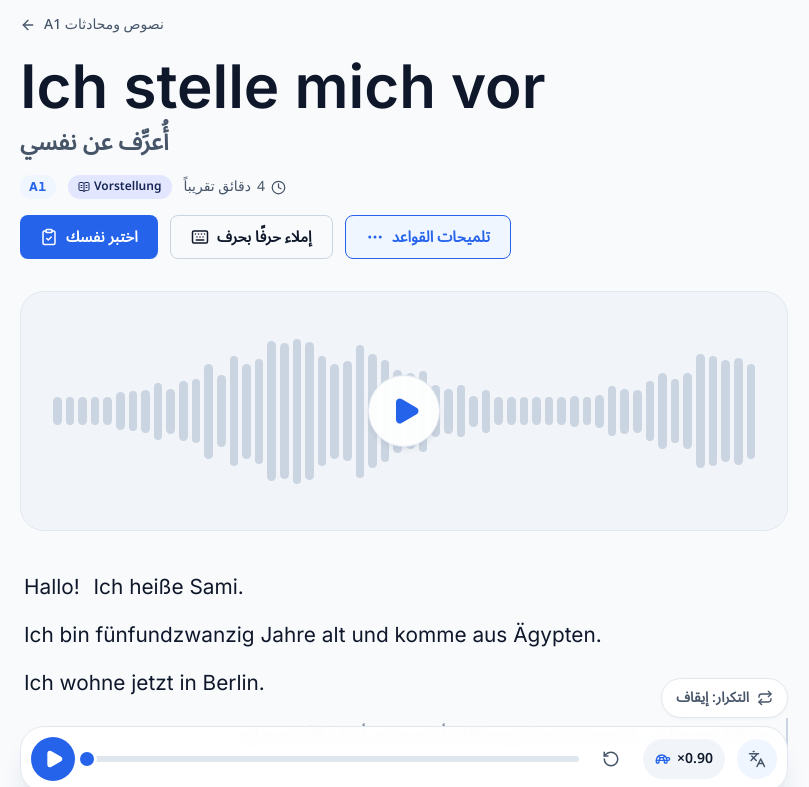
Test: StoryPage — repeating › chooses a passage with two taps, tints its sentences and says which sentences repeat
Click the button "التكرار: إيقاف" at (725, 698), box [661,678,788,718]
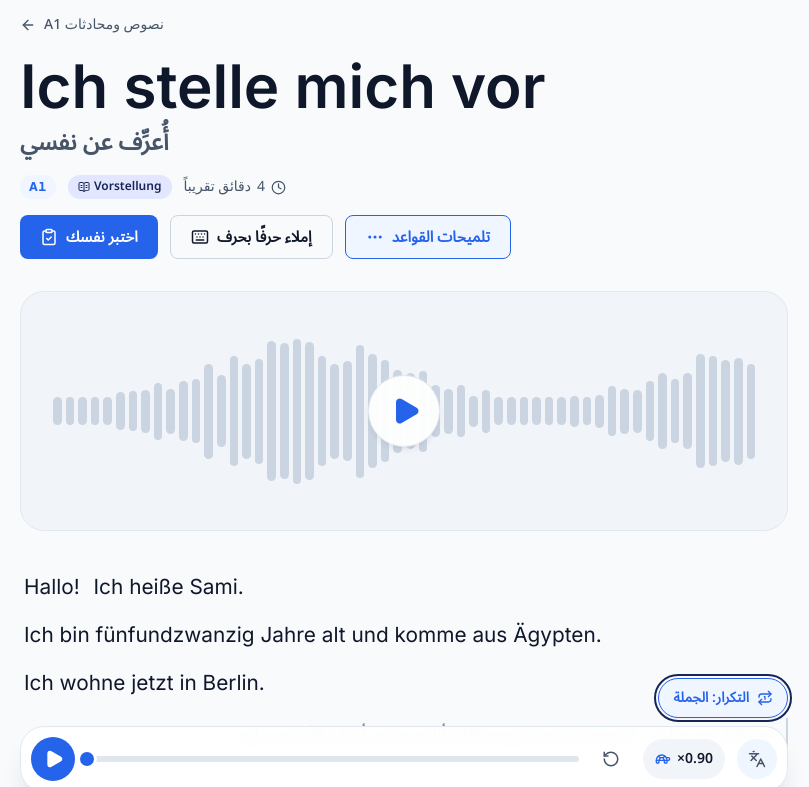
Click the button "التكرار: الجملة" at (723, 698), box [658,678,788,718]
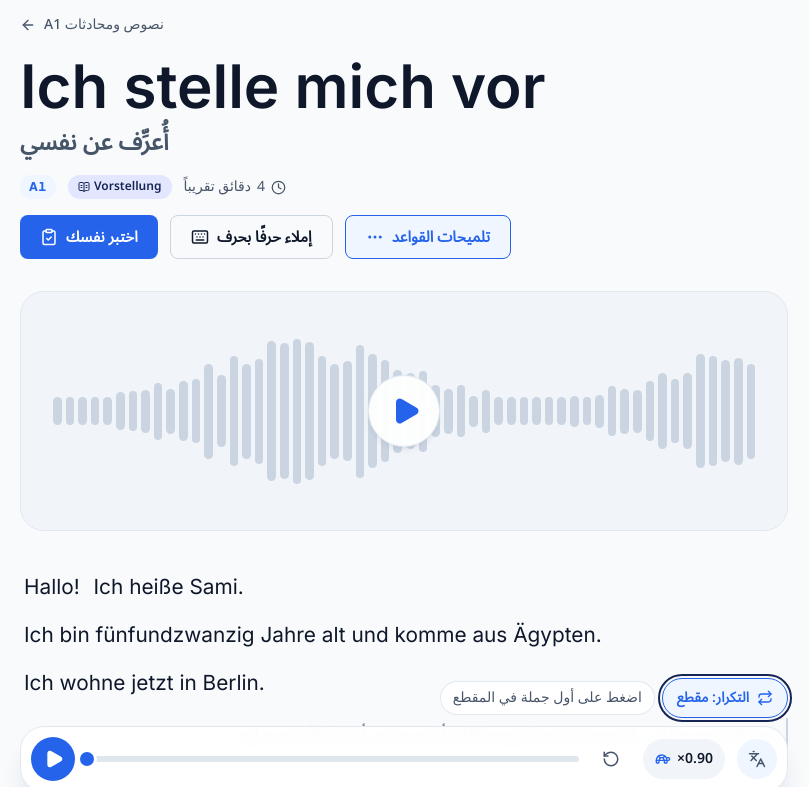
Expected: the message reads "اضغط على أول جملة في المقطع", [453,683,642,712]
Click the button "Ich heiße Sami." at (169, 587), box [90,563,248,611]
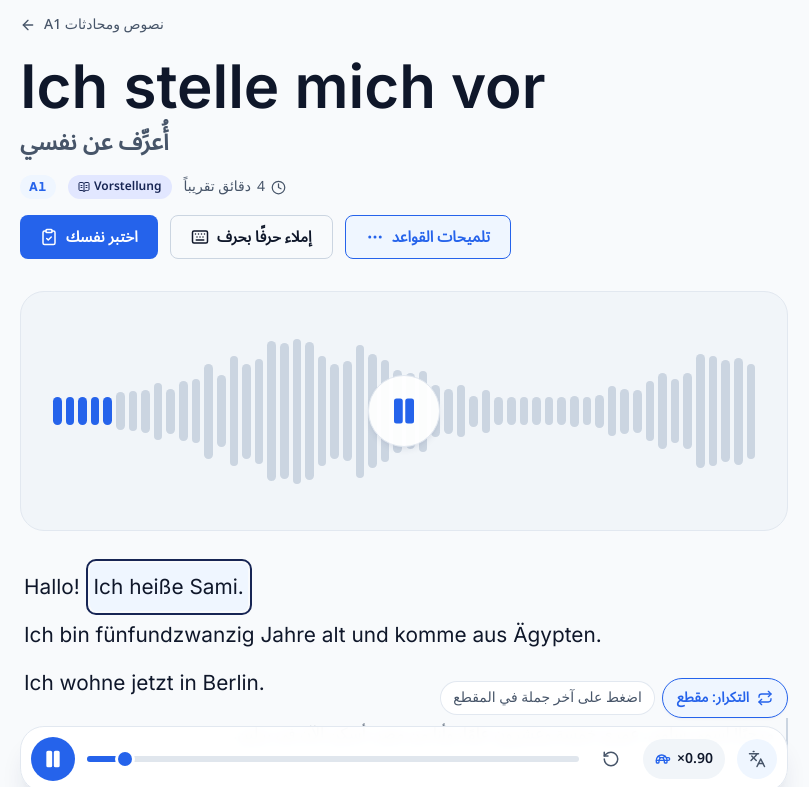
Expected: the message reads "اضغط على آخر جملة في المقطع", [453,683,642,712]
Click the button "Ich bin fünfundzwanzig Jahre alt und komme aus Ägypten." at (313, 635), box [20,611,606,659]
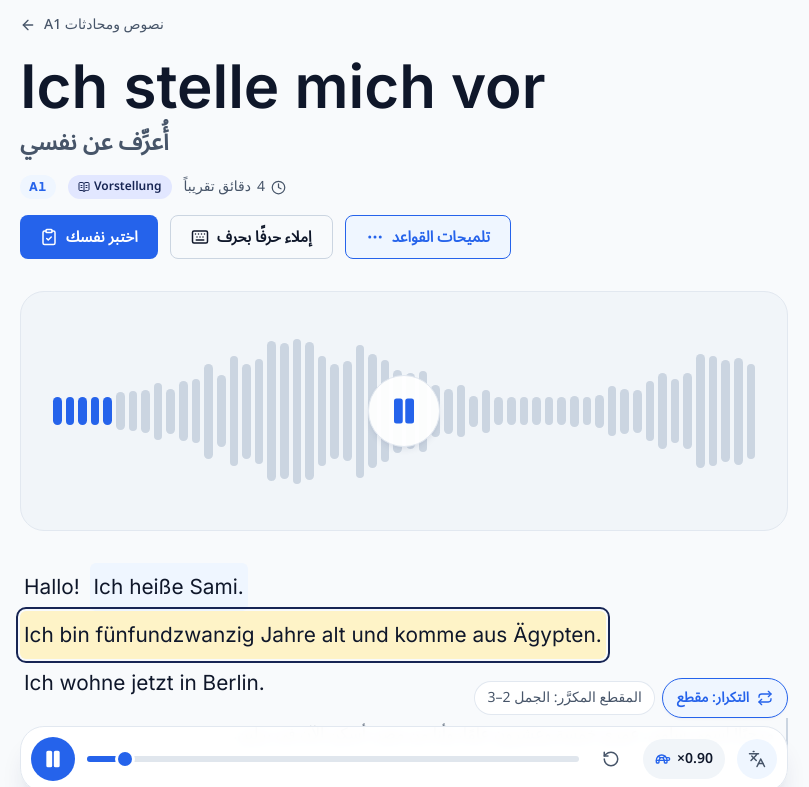
Expected: the button "Ich heiße Sami." is shown, [90,563,248,611]
Expected: the message reads "المقطع المكرَّر: الجمل 2–3", [488,683,642,712]
